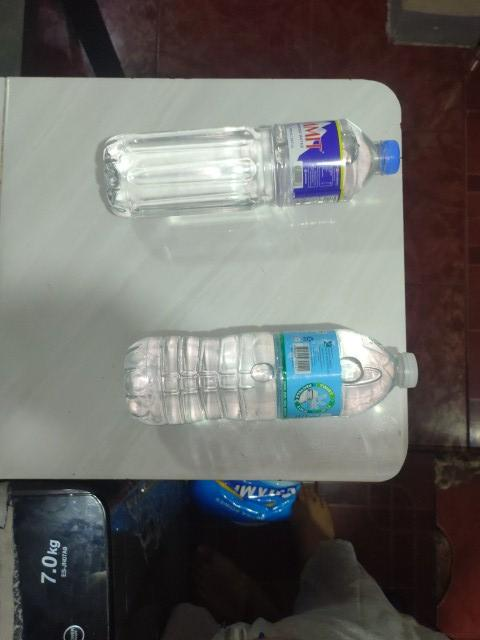Bottled Water: (117, 318, 425, 436), (95, 112, 417, 221)
